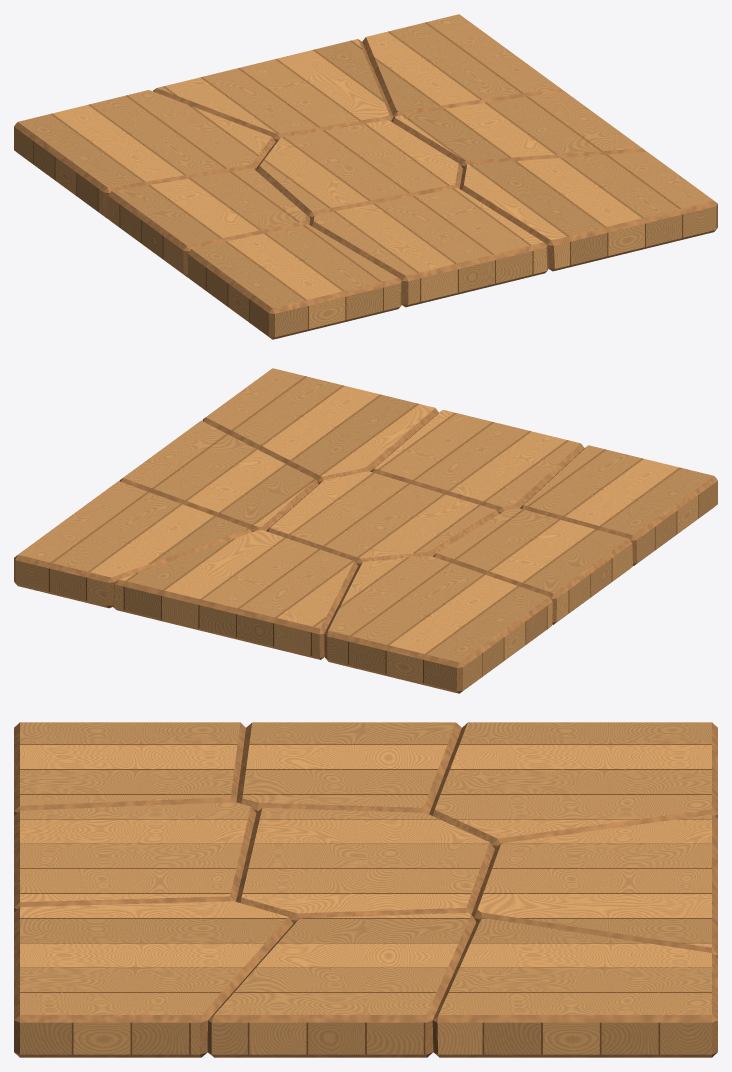
Rendered from Kit_Wood_Floor_Fractured.glb.
The picture shows the model from 3 angles, top to bottom: view 1: azimuth 30°, elevation 25°; view 2: azimuth 150°, elevation 25°; view 3: azimuth 270°, elevation 25°; orthographic projection. The views are drawn at different scales.
Visible parts, largest first — view 1: Kit_Wood_Floor_frag_07, Kit_Wood_Floor_frag_03, Kit_Wood_Floor_frag_04, Kit_Wood_Floor_frag_01, Kit_Wood_Floor_frag_06, Kit_Wood_Floor_frag_05, Kit_Wood_Floor_frag_09, Kit_Wood_Floor_frag_02, Kit_Wood_Floor_frag_08; view 2: Kit_Wood_Floor_frag_03, Kit_Wood_Floor_frag_06, Kit_Wood_Floor_frag_07, Kit_Wood_Floor_frag_09, Kit_Wood_Floor_frag_05, Kit_Wood_Floor_frag_01, Kit_Wood_Floor_frag_04, Kit_Wood_Floor_frag_02, Kit_Wood_Floor_frag_08; view 3: Kit_Wood_Floor_frag_07, Kit_Wood_Floor_frag_09, Kit_Wood_Floor_frag_08, Kit_Wood_Floor_frag_03, Kit_Wood_Floor_frag_06, Kit_Wood_Floor_frag_05, Kit_Wood_Floor_frag_04, Kit_Wood_Floor_frag_01, Kit_Wood_Floor_frag_02.
Boxes of the visible parts, bbox=[...] form: Kit_Wood_Floor_frag_07: bbox=[460, 151, 717, 271]; Kit_Wood_Floor_frag_03: bbox=[14, 90, 275, 218]; Kit_Wood_Floor_frag_04: bbox=[309, 188, 548, 307]; Kit_Wood_Floor_frag_01: bbox=[187, 224, 401, 339]; Kit_Wood_Floor_frag_06: bbox=[153, 39, 393, 141]; Kit_Wood_Floor_frag_05: bbox=[256, 120, 462, 218]; Kit_Wood_Floor_frag_09: bbox=[362, 14, 563, 117]; Kit_Wood_Floor_frag_02: bbox=[107, 168, 310, 277]; Kit_Wood_Floor_frag_08: bbox=[392, 91, 646, 167]; Kit_Wood_Floor_frag_03: bbox=[324, 555, 552, 693]; Kit_Wood_Floor_frag_06: bbox=[113, 530, 357, 659]; Kit_Wood_Floor_frag_07: bbox=[202, 368, 438, 483]; Kit_Wood_Floor_frag_09: bbox=[14, 481, 252, 608]; Kit_Wood_Floor_frag_05: bbox=[266, 471, 498, 565]; Kit_Wood_Floor_frag_01: bbox=[520, 445, 717, 565]; Kit_Wood_Floor_frag_04: bbox=[370, 410, 584, 513]; Kit_Wood_Floor_frag_02: bbox=[433, 508, 632, 624]; Kit_Wood_Floor_frag_08: bbox=[119, 420, 318, 531]; Kit_Wood_Floor_frag_07: bbox=[14, 901, 293, 1057]; Kit_Wood_Floor_frag_09: bbox=[432, 917, 717, 1057]; Kit_Wood_Floor_frag_08: bbox=[207, 912, 476, 1057]; Kit_Wood_Floor_frag_03: bbox=[429, 722, 717, 848]; Kit_Wood_Floor_frag_06: bbox=[472, 814, 717, 958]; Kit_Wood_Floor_frag_05: bbox=[236, 808, 494, 923]; Kit_Wood_Floor_frag_04: bbox=[14, 802, 256, 912]; Kit_Wood_Floor_frag_01: bbox=[14, 722, 245, 815]; Kit_Wood_Floor_frag_02: bbox=[236, 722, 461, 814].
Size of what is drawn, in the model's own units: 3 by 0.2 by 3.
Materials: 2 (2 with a texture image).
